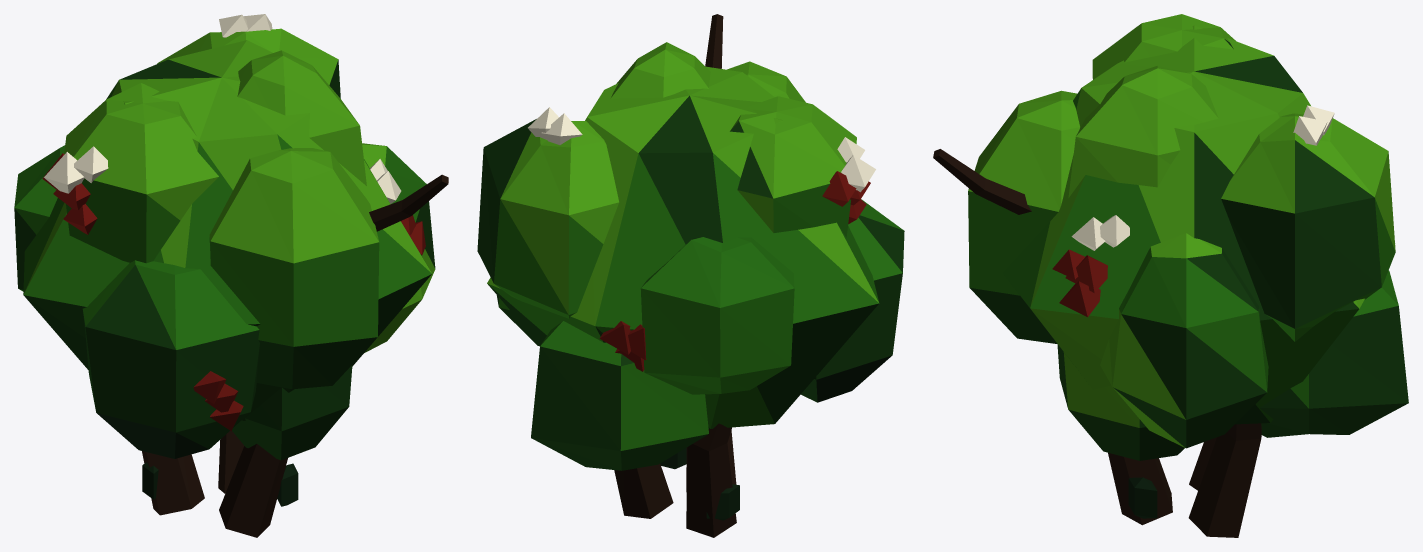
Rendered from leafy-bush-d37bba.fbx.
3 renders of one model, left to right at view 1: azimuth 30°, elevation 25°; view 2: azimuth 150°, elevation 25°; view 3: azimuth 270°, elevation 25°, orthographic. The views are drawn at different scales.
Parts seen in each view (by area): view 1: leafy-bush-mesh; view 2: leafy-bush-mesh; view 3: leafy-bush-mesh.
Part boxes in pixels (x1,y1,x2,y2): leafy-bush-mesh: (14, 14, 448, 537); leafy-bush-mesh: (477, 14, 904, 537); leafy-bush-mesh: (933, 14, 1408, 537).
Size of the model in its own units: 0.973 by 1.05 by 0.9644.
